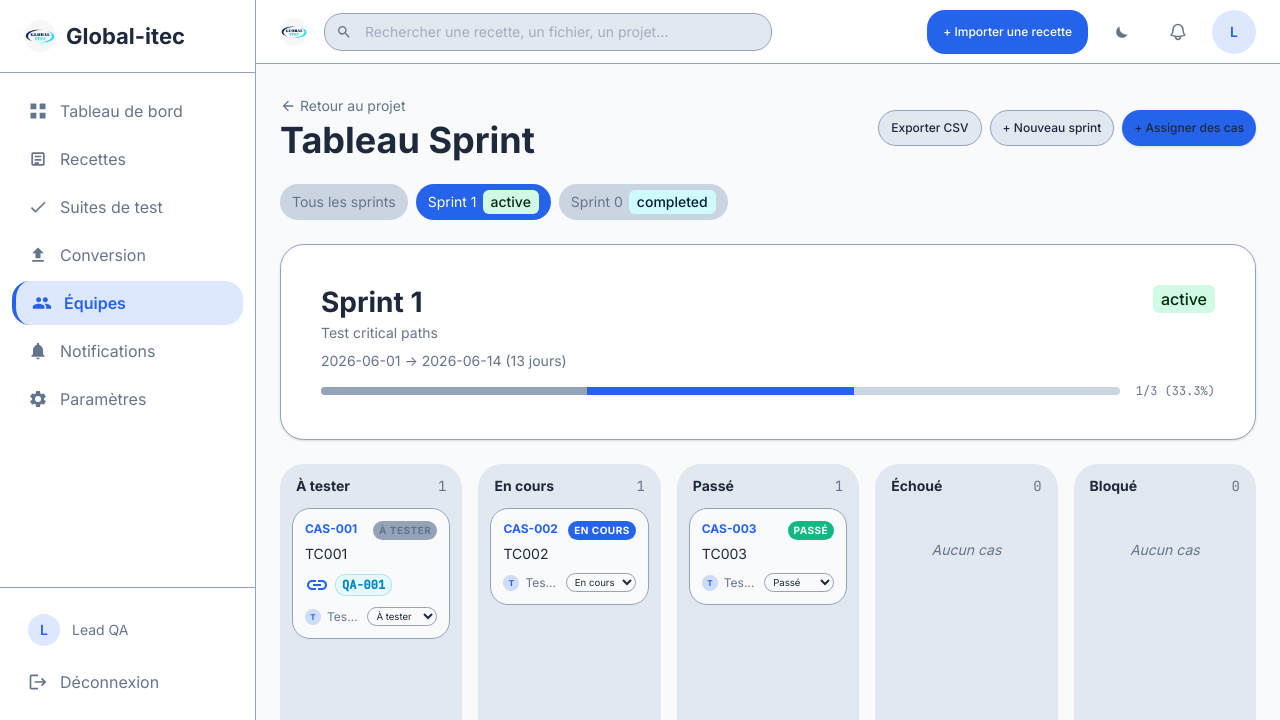
Scenario: SprintBoardPage › opens the ticket popup immediately on card click with board data
Click the text "CAS-001" at (331, 529), box [305,521,357,537]
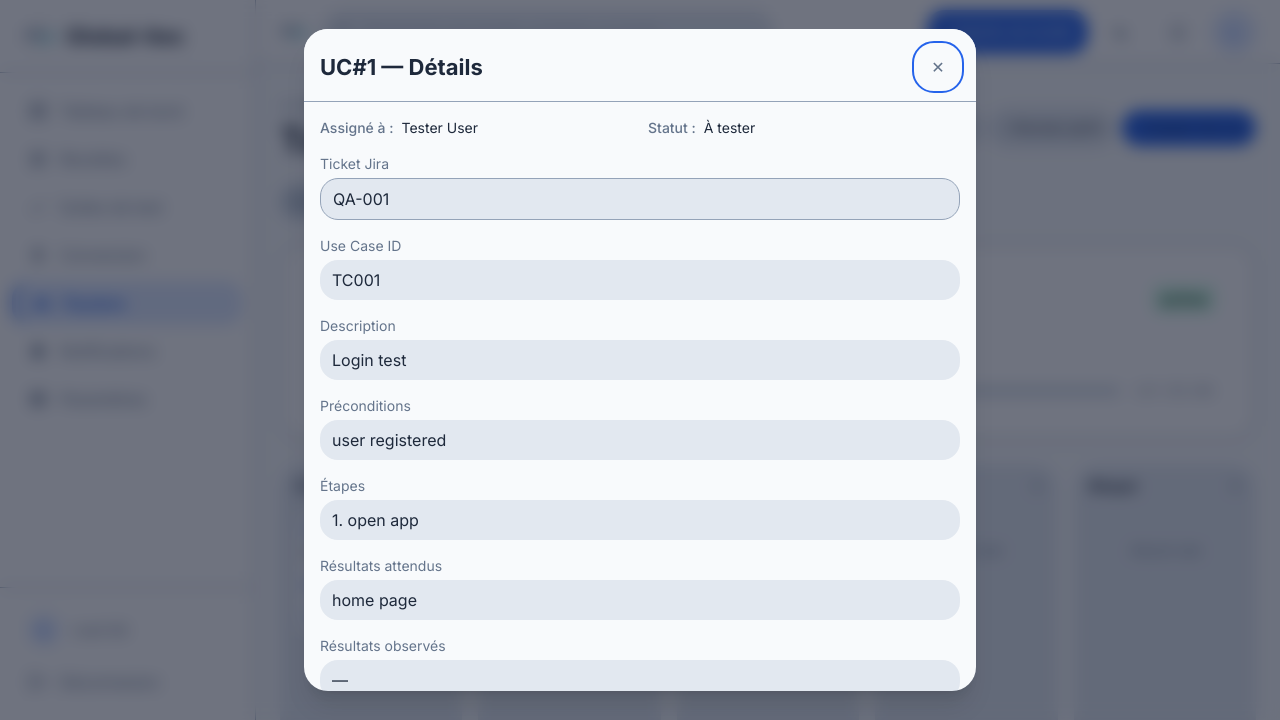
Now the heading "UC#1 — Détails" is shown, box [320,53,483,81]
Now the text "Assigné à :" is shown, box [320,119,394,136]
Now the field showing "QA-001" is shown, box [320,178,960,220]
